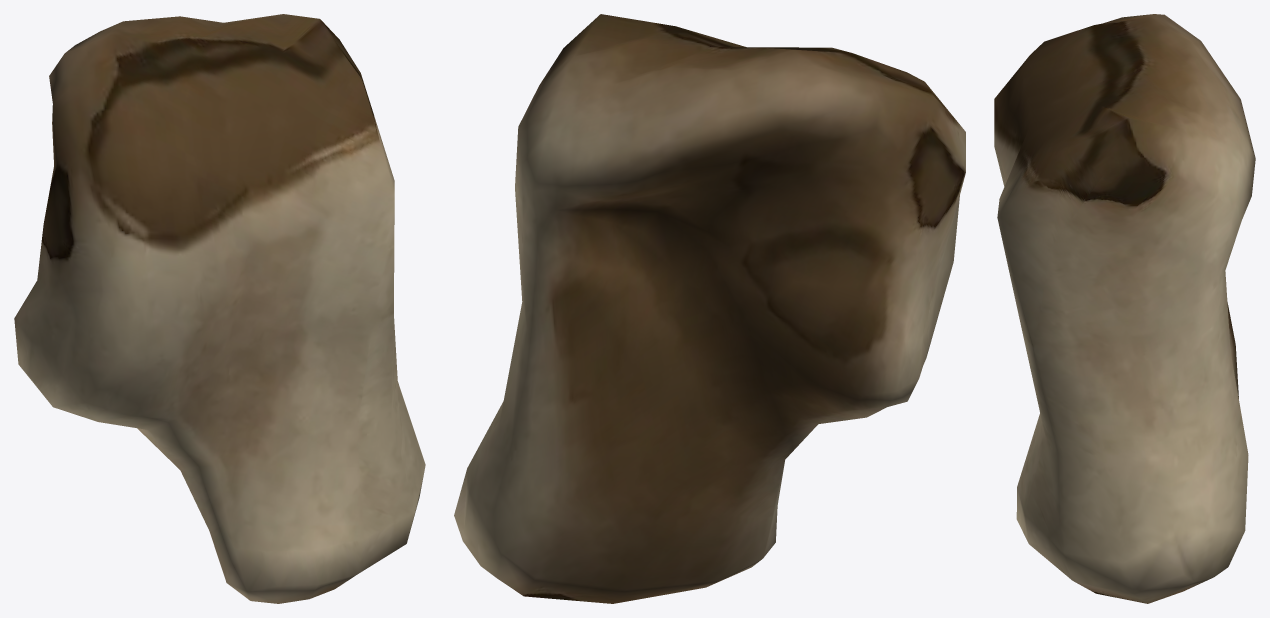
The model's file is Trochlea.glb.
3 views of the same model, side by side, from view 1: azimuth 30°, elevation 25°; view 2: azimuth 150°, elevation 25°; view 3: azimuth 270°, elevation 25° (orthographic). The views are drawn at different scales.
Parts seen in each view (by area): view 1: Trochlea_Right1:Group22310; view 2: Trochlea_Right1:Group22310; view 3: Trochlea_Right1:Group22310.
Part boxes in pixels (x1=…): Trochlea_Right1:Group22310: x1=14, y1=14, x2=425, y2=603; Trochlea_Right1:Group22310: x1=454, y1=14, x2=965, y2=603; Trochlea_Right1:Group22310: x1=994, y1=14, x2=1255, y2=603.
Size of the model in its own units: 19.83 by 26.35 by 12.97.
Materials: 1 (1 with a texture image).
